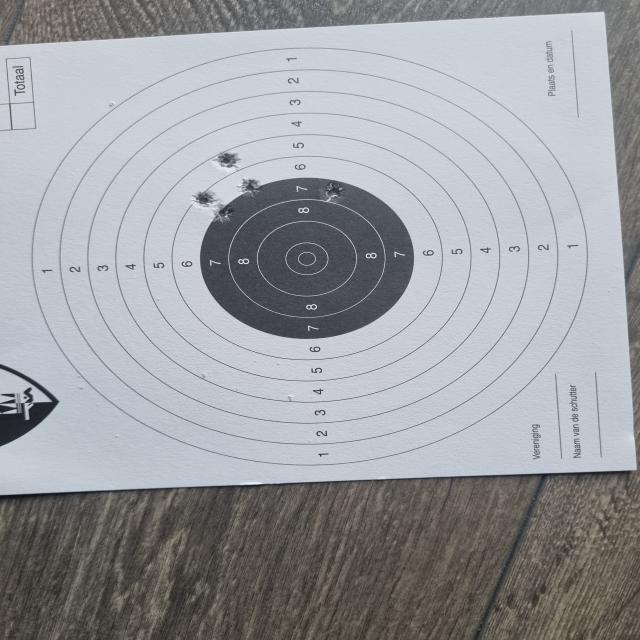5: (212, 148, 245, 172)
6: (190, 188, 218, 210)
7: (321, 179, 348, 202), (237, 175, 261, 200), (210, 202, 236, 222)
Target: (34, 45, 588, 468)
black_contour: (196, 180, 419, 338)
